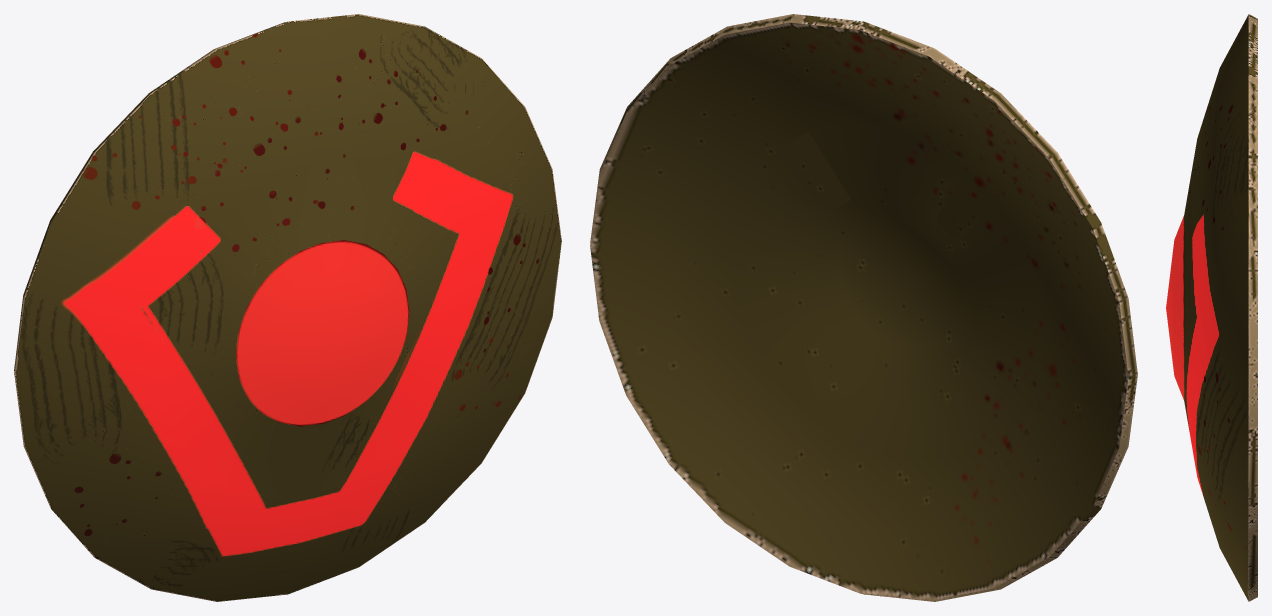
Rendered from enemy_distance.glb.
The picture shows the model from 3 angles, left to right: view 1: azimuth 30°, elevation 25°; view 2: azimuth 150°, elevation 25°; view 3: azimuth 270°, elevation 25°; orthographic projection. The views are drawn at different scales.
Parts seen in each view (by area): view 1: Sphere001__0; view 2: Sphere001__0; view 3: Sphere001__0.
Part boxes in pixels (left/top/right/bottom): Sphere001__0: left=14, top=14, right=561, bottom=601; Sphere001__0: left=590, top=14, right=1137, bottom=601; Sphere001__0: left=1166, top=14, right=1257, bottom=601.
Size of the model in its own units: 89.39 by 89.39 by 13.93.
Materials: 1 (1 with a texture image).
